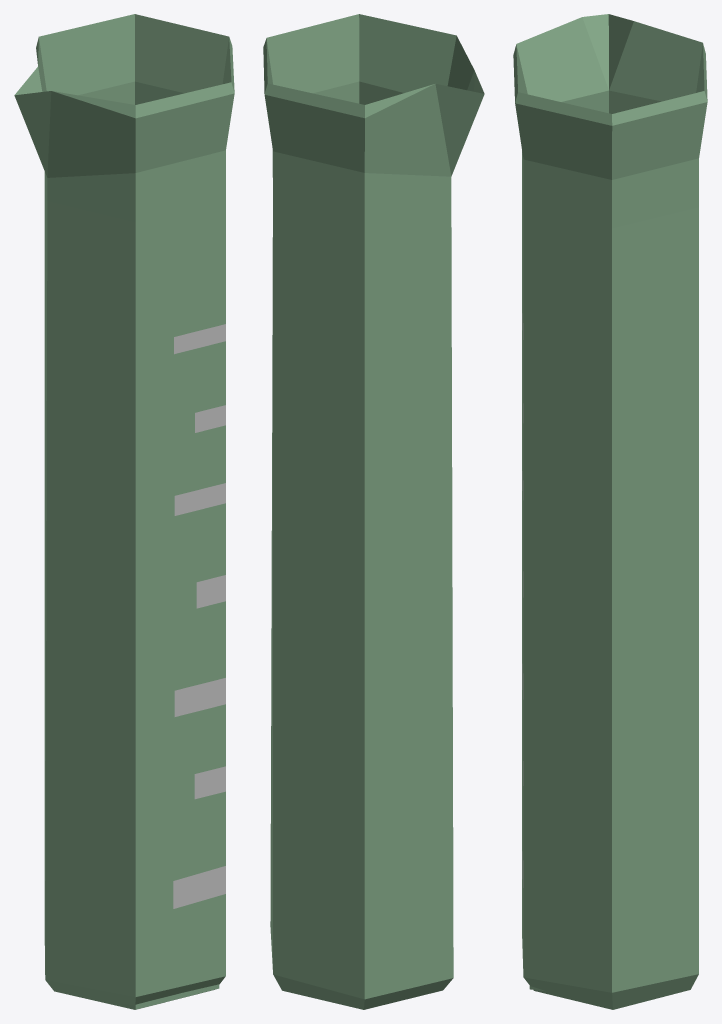
Rendered from graduated_cylinder1.fbx.
3 views of the same model, side by side, from view 1: azimuth 30°, elevation 25°; view 2: azimuth 150°, elevation 25°; view 3: azimuth 270°, elevation 25° (orthographic).
Visible parts, largest first — view 1: graduated_cylinder; view 2: graduated_cylinder; view 3: graduated_cylinder.
Part boxes in pixels (<box>): graduated_cylinder: <box>14,14,234,1009</box>; graduated_cylinder: <box>263,14,484,1009</box>; graduated_cylinder: <box>513,14,707,1009</box>.
Size of the model in its own units: 54.09 by 216 by 41.79.
